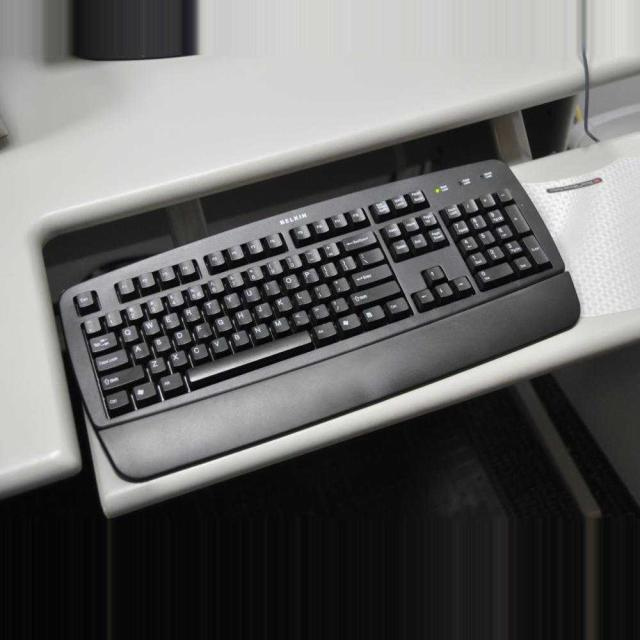keyboard: (61, 157, 588, 487)
